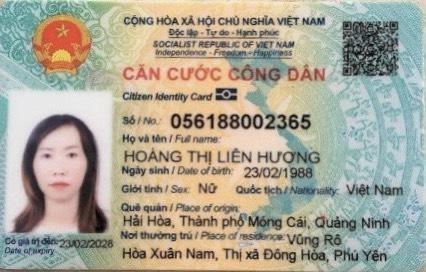ID: (166, 108, 315, 133)
birth: (239, 165, 315, 181)
name: (121, 146, 328, 166)
place: (119, 211, 394, 232)
residence: (120, 243, 388, 266), (284, 231, 343, 248)
